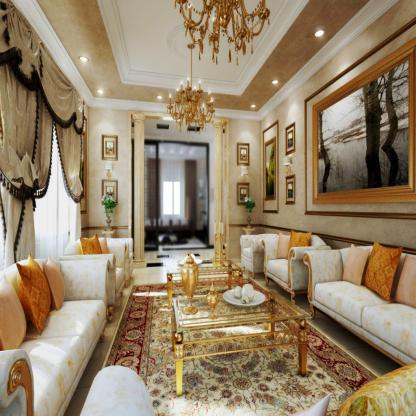meja: (165, 265, 314, 388)
sova: (2, 253, 113, 413)
